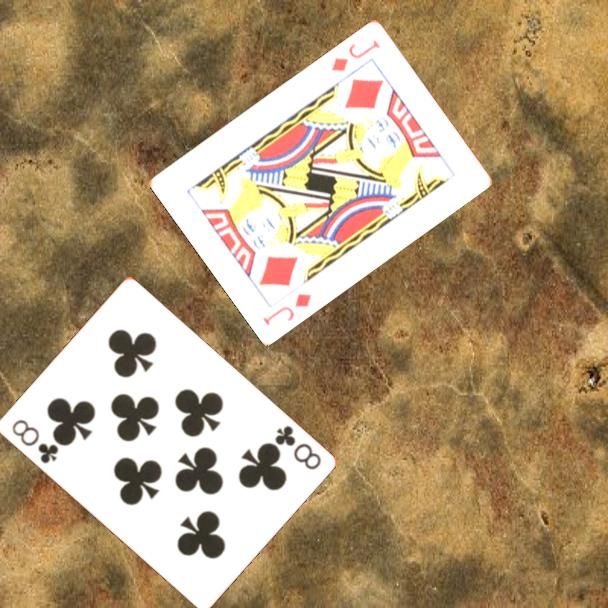c08: (8, 416, 61, 467), (271, 422, 324, 473)
d11: (328, 36, 383, 74), (259, 290, 314, 328)
